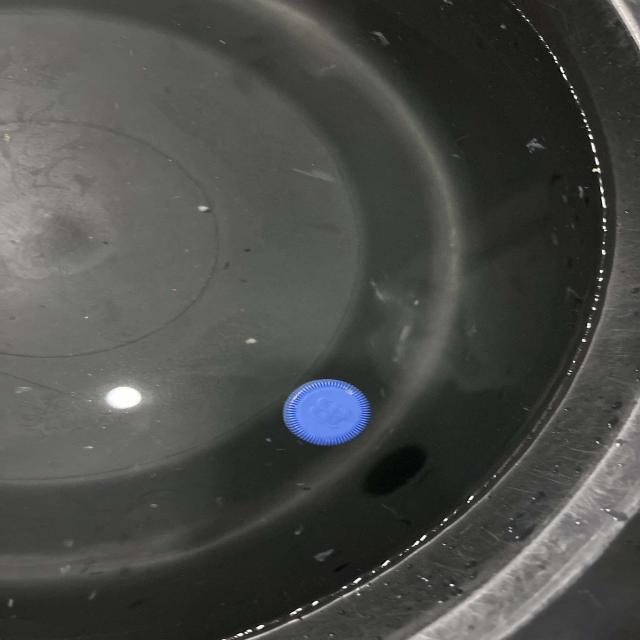Bottle Lid: (283, 379, 371, 446)
